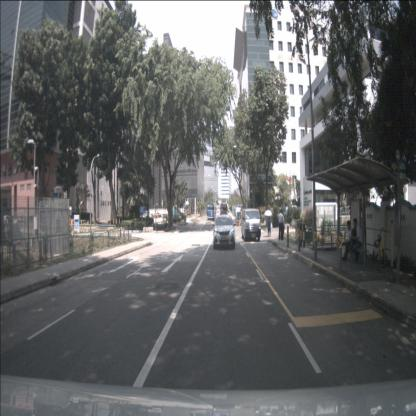human-pedestrian-adult: (349, 218, 362, 264), (342, 220, 353, 260), (278, 209, 285, 241), (264, 210, 272, 237), (280, 212, 286, 240), (342, 197, 346, 215)
vehicle-bicycle: (374, 227, 388, 272)
vehicle-bus-rigid: (207, 203, 216, 220)
vehicle-car: (213, 216, 235, 249), (241, 208, 261, 242), (2, 215, 12, 223), (154, 212, 162, 218)
vehicle-truck: (220, 203, 228, 218)
